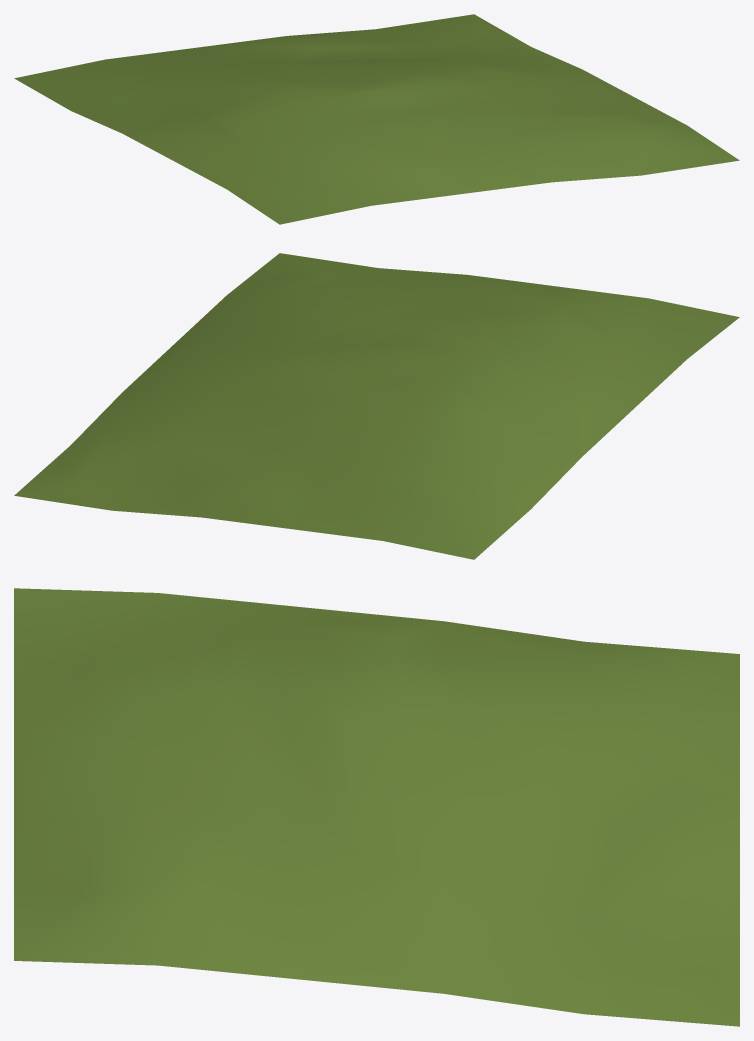
Rendered from rpgpp_ag_terrain_hill_01b_10x10m_1-1m.fbx.
3 views of the same model, one above another, from view 1: azimuth 30°, elevation 25°; view 2: azimuth 150°, elevation 25°; view 3: azimuth 270°, elevation 25° (orthographic). The views are drawn at different scales.
Parts seen in each view (by area): view 1: rpgpp_ag_terrain_hill_01b_10x10m_1-1m; view 2: rpgpp_ag_terrain_hill_01b_10x10m_1-1m; view 3: rpgpp_ag_terrain_hill_01b_10x10m_1-1m.
Boxes of the visible parts, left/top/right/bottom form: rpgpp_ag_terrain_hill_01b_10x10m_1-1m: left=14, top=14, right=739, bottom=224; rpgpp_ag_terrain_hill_01b_10x10m_1-1m: left=14, top=253, right=739, bottom=559; rpgpp_ag_terrain_hill_01b_10x10m_1-1m: left=14, top=588, right=739, bottom=1026.
Size of the model in its own units: 10 by 2.11 by 10.
